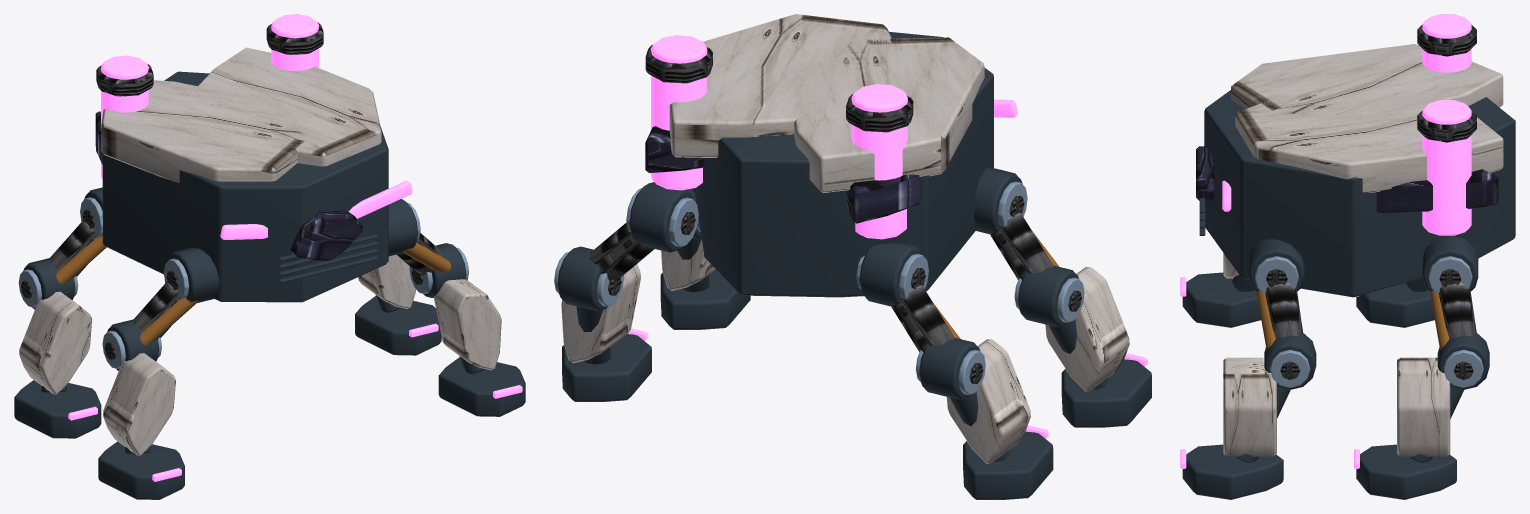
The model's file is quad.glb.
The picture shows the model from 3 angles, left to right: view 1: azimuth 30°, elevation 25°; view 2: azimuth 150°, elevation 25°; view 3: azimuth 270°, elevation 25°; orthographic projection. The views are drawn at different scales.
Parts seen in each view (by area): view 1: Sloped crawler body, Layered beetle carapace, Servo housing.002, Servo housing.006, Swept crawler greave, Swept crawler greave.001, Servo housing, Swept crawler greave.003, Servo housing.004, Biome pressure capsule, Swept cobalt shell, Pressure capsule retainer (+10 smaller); view 2: Layered beetle carapace, Sloped crawler body, Servo housing, Servo housing.004, Servo housing.002, Biome pressure capsule, Swept crawler greave, Swept crawler greave.001, Swept cobalt shell, Servo housing.006, Swept crawler greave.002, Pressure capsule retainer (+7 smaller); view 3: Sloped crawler body, Layered beetle carapace, Servo housing.004, Biome pressure capsule, Servo housing.006, Swept crawler greave.003, Swept crawler greave.002, Swept cobalt shell, Servo housing.002, Servo housing, Pressure capsule retainer, Hub.012 (+5 smaller).
Boxes of the visible parts, <box> form: Sloped crawler body: <box>102,71,388,302</box>; Layered beetle carapace: <box>101,47,381,183</box>; Servo housing.002: <box>98,247,219,499</box>; Servo housing.006: <box>388,199,525,416</box>; Swept crawler greave: <box>19,291,91,394</box>; Swept crawler greave.001: <box>103,353,175,455</box>; Servo housing: <box>14,187,102,438</box>; Swept crawler greave.003: <box>434,279,501,370</box>; Servo housing.004: <box>355,295,441,355</box>; Biome pressure capsule: <box>101,14,318,178</box>; Swept cobalt shell: <box>95,111,362,260</box>; Pressure capsule retainer: <box>96,22,323,96</box>; Layered beetle carapace: <box>669,14,984,192</box>; Sloped crawler body: <box>694,31,993,297</box>; Servo housing: <box>859,243,1053,499</box>; Servo housing.004: <box>557,182,693,401</box>; Servo housing.002: <box>974,167,1151,427</box>; Biome pressure capsule: <box>651,35,907,239</box>; Swept crawler greave: <box>946,339,1030,463</box>; Swept crawler greave.001: <box>1045,267,1129,391</box>; Swept cobalt shell: <box>645,126,920,223</box>; Servo housing.006: <box>660,189,750,329</box>; Swept crawler greave.002: <box>561,264,640,363</box>; Pressure capsule retainer: <box>645,45,913,132</box>; Sloped crawler body: <box>1199,90,1515,297</box>; Layered beetle carapace: <box>1231,44,1503,192</box>; Servo housing.004: <box>1356,236,1489,499</box>; Biome pressure capsule: <box>1422,14,1471,235</box>; Servo housing.006: <box>1182,239,1316,499</box>; Swept crawler greave.003: <box>1223,357,1276,456</box>; Swept crawler greave.002: <box>1397,357,1450,456</box>; Swept cobalt shell: <box>1196,146,1498,213</box>; Servo housing.002: <box>1182,272,1261,327</box>; Servo housing: <box>1356,278,1434,327</box>; Pressure capsule retainer: <box>1417,25,1476,142</box>; Hub.012: <box>1265,268,1302,379</box>.
Bounding box in the file's own units: 1.46 × 1.1 × 1.
8 materials, 3 textured.
